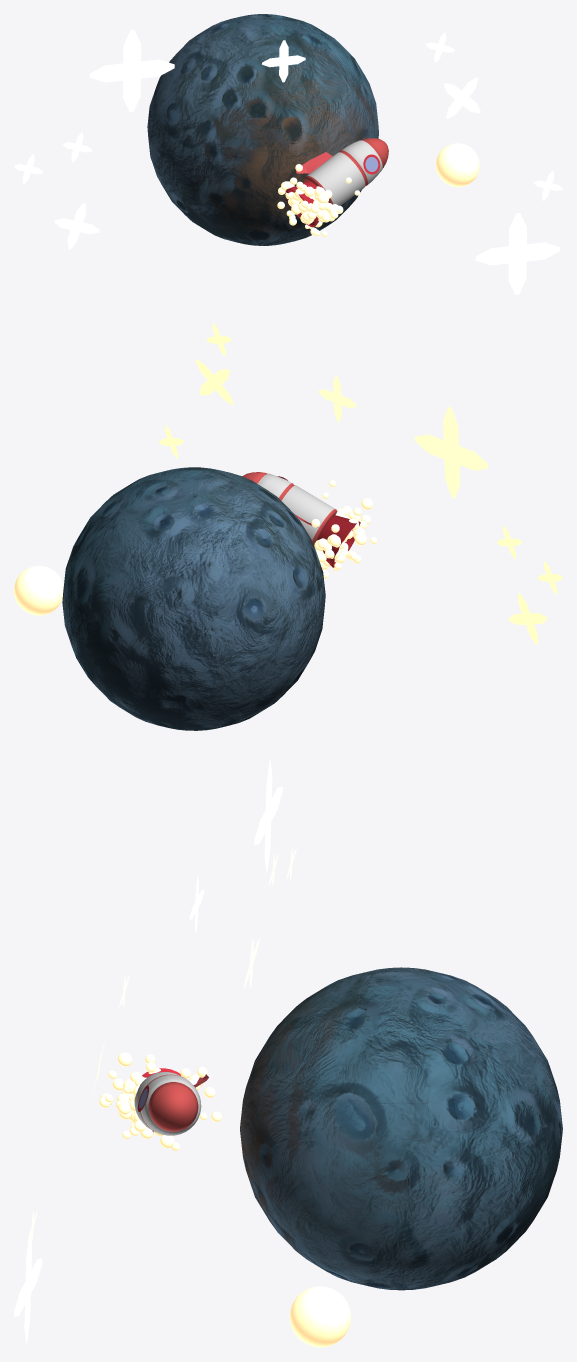
The model's file is moon.glb.
3 views of the same model, one above another, from view 1: azimuth 30°, elevation 25°; view 2: azimuth 150°, elevation 25°; view 3: azimuth 270°, elevation 25° (orthographic). The views are drawn at different scales.
Visible parts, largest first — view 1: moon, base, Plane.004, Plane.001, Sphere, Plane.003, Plane, Plane.002; view 2: moon, Plane.001, base, Sphere, Cylinder, Plane.003, Plane, Plane.002; view 3: moon, base, Sphere, Plane.001, Plane.004.
Part boxes in pixels (<box>): moon: <box>147,14,378,245</box>; base: <box>304,138,388,205</box>; Plane.004: <box>475,213,560,294</box>; Plane.001: <box>89,30,174,111</box>; Sphere: <box>436,143,479,187</box>; Plane.003: <box>443,77,480,118</box>; Plane: <box>54,203,99,249</box>; Plane.002: <box>262,40,305,82</box>; moon: <box>62,467,325,730</box>; Plane.001: <box>414,406,488,498</box>; base: <box>242,472,337,546</box>; Sphere: <box>14,565,63,615</box>; Cylinder: <box>317,515,360,567</box>; Plane.003: <box>195,359,233,404</box>; Plane: <box>508,593,546,644</box>; Plane.002: <box>318,375,356,422</box>; moon: <box>240,967,562,1290</box>; base: <box>134,1072,201,1135</box>; Sphere: <box>289,1286,350,1347</box>; Plane.001: <box>254,760,282,871</box>; Plane.004: <box>14,1232,42,1343</box>.
Bounding box in the file's own units: 24.7 × 14.16 × 17.89.
Materials: 8 (1 with a texture image).
